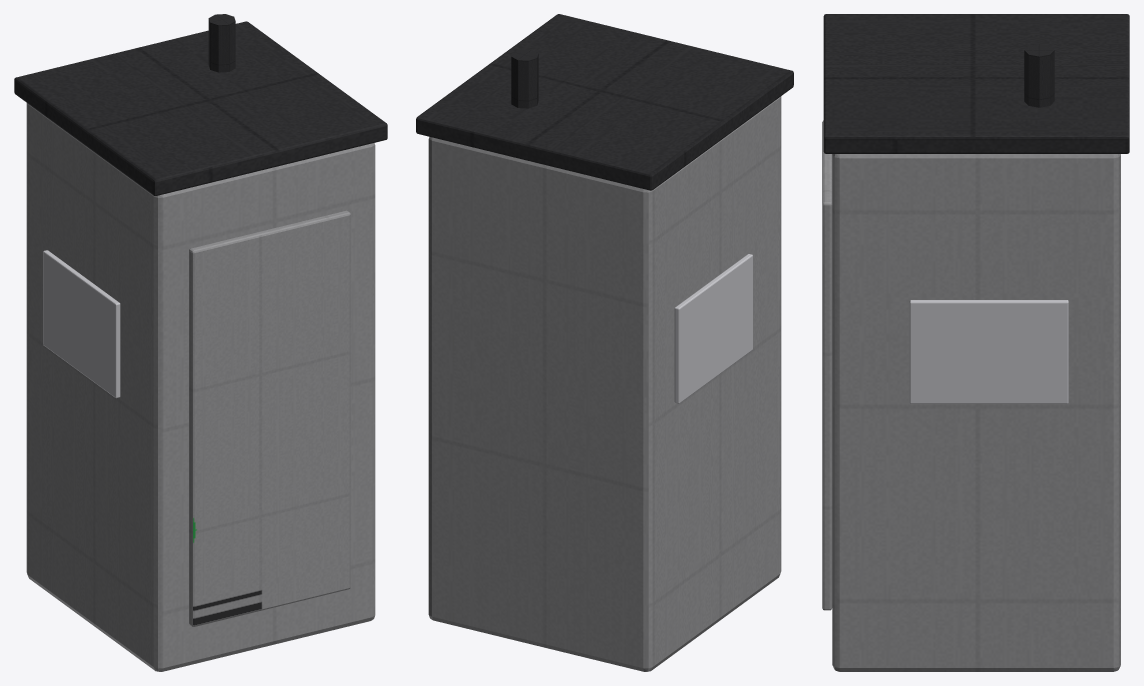
The model's file is portapotty_gray.dae.
The picture shows the model from 3 angles, left to right: view 1: azimuth 30°, elevation 25°; view 2: azimuth 150°, elevation 25°; view 3: azimuth 270°, elevation 25°; orthographic projection. The views are drawn at different scales.
Visible parts, largest first — view 1: body, door, roof, logo_0, vent; view 2: body, roof, logo_0, vent; view 3: body, roof, logo_1, door, vent.
Part boxes in pixels (x1,y1,x2,y2): body: [26, 103, 375, 671]; door: [189, 210, 350, 626]; roof: [14, 21, 387, 195]; logo_0: [43, 250, 120, 398]; vent: [208, 14, 235, 72]; body: [428, 96, 781, 671]; roof: [416, 14, 793, 190]; logo_0: [674, 254, 752, 403]; vent: [511, 49, 538, 108]; body: [832, 154, 1120, 671]; roof: [823, 14, 1129, 153]; logo_1: [909, 300, 1068, 403]; door: [822, 120, 832, 610]; vent: [1024, 44, 1054, 107].
Bounding box in the file's own units: 1.17 × 1.22 × 2.6.
4 materials, 4 textured.
